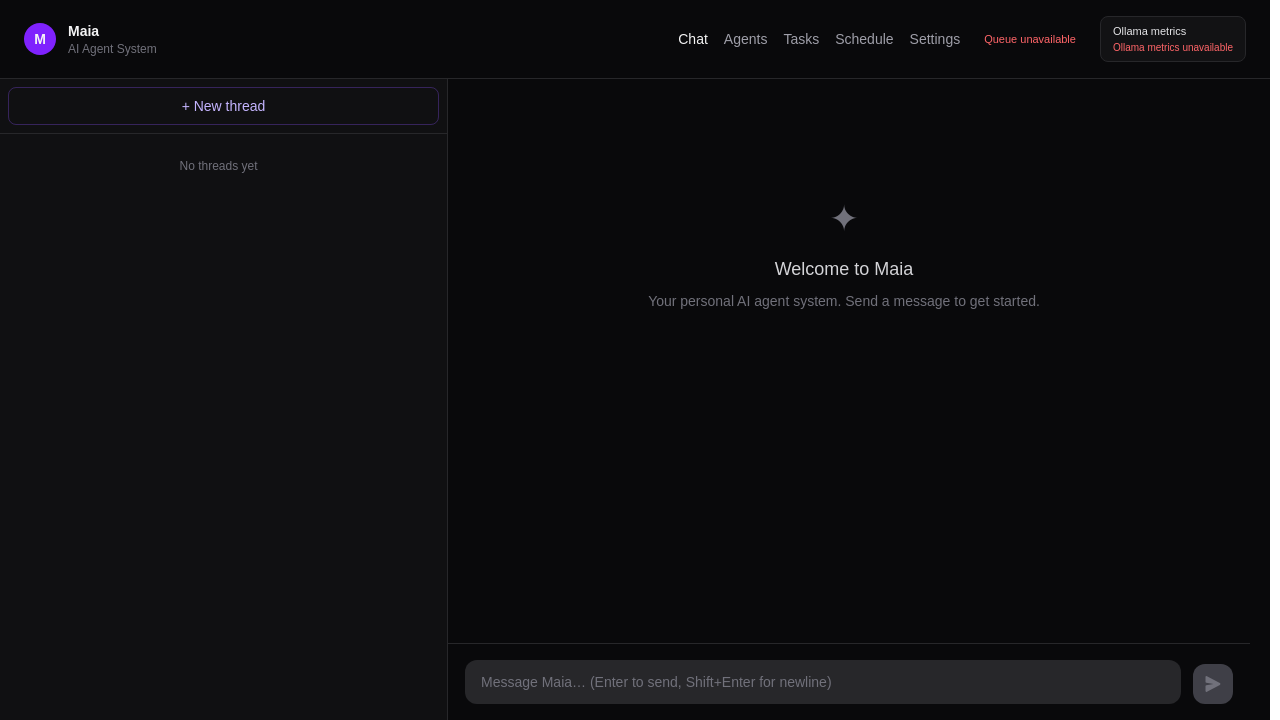
it: Home page › sends message and shows it in the list when user submits
This screenshot has width=1280, height=720.
Expected: the text "Welcome to Maia" is shown, [775, 258, 913, 278]
Type "Test message" into the text box with placeholder "Message Maia… (Enter to send, Shift+Enter for newline)" at (823, 682), box [465, 660, 1181, 704]
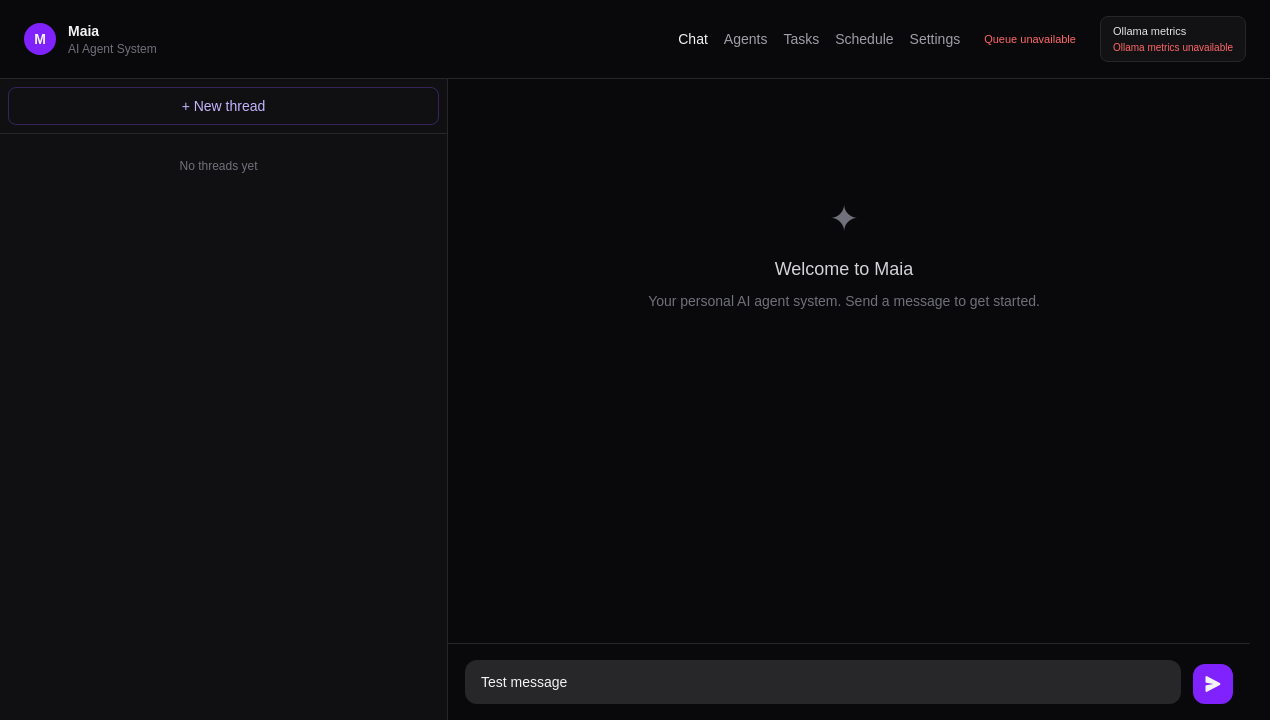
Click the button named "Send message" at (1213, 684), box [1193, 664, 1233, 704]
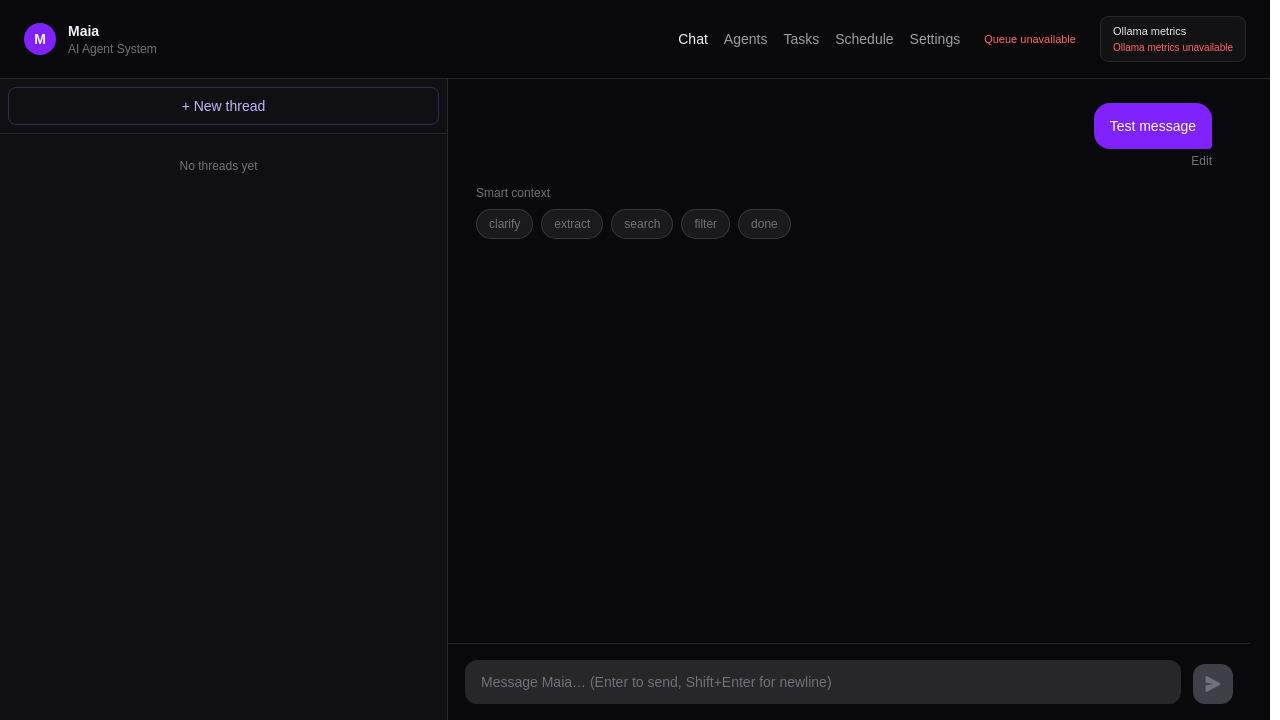
Expected: the text "Test message" is shown, [1110, 114, 1196, 137]
